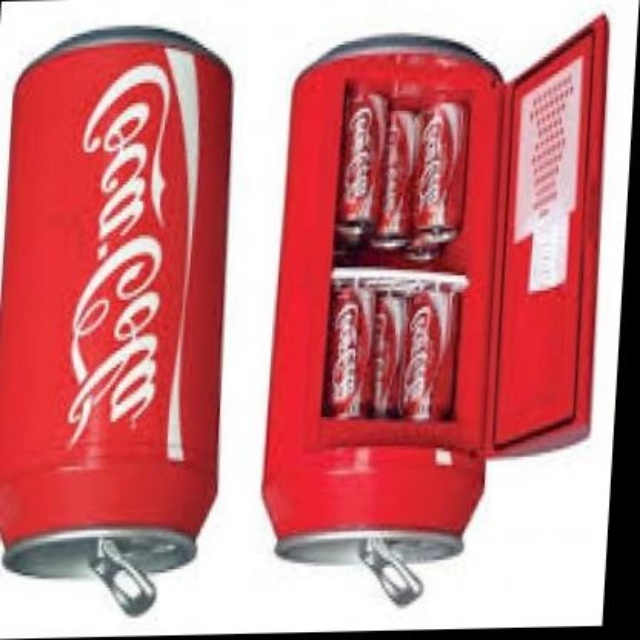trash: (263, 35, 502, 602), (0, 28, 229, 614)
